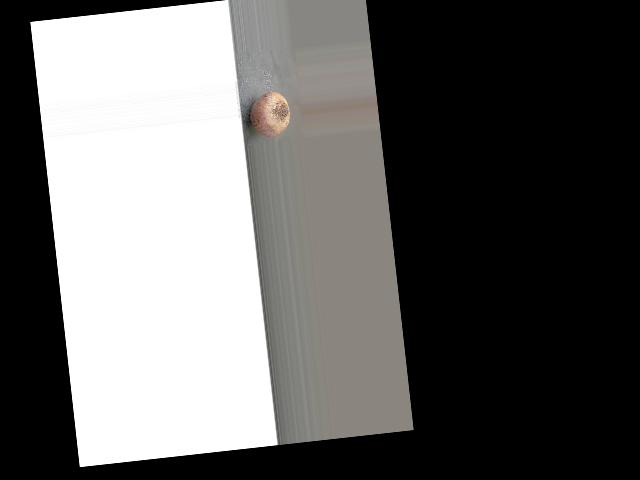beet: (248, 90, 291, 140)
